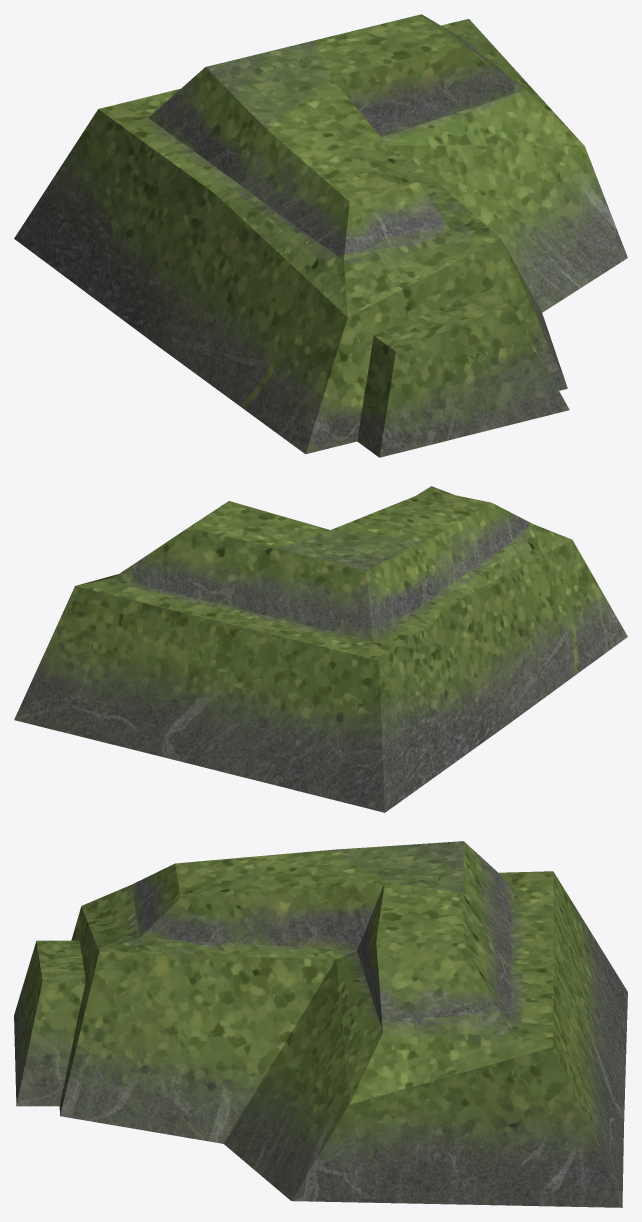
3 renders of one model, top to bottom at view 1: azimuth 30°, elevation 25°; view 2: azimuth 150°, elevation 25°; view 3: azimuth 270°, elevation 25°, orthographic. The views are drawn at different scales.
Parts seen in each view (by area): view 1: 3DObj_Land_2; view 2: 3DObj_Land_2; view 3: 3DObj_Land_2.
Boxes of the visible parts, x1,y1,x2,y2 form: 3DObj_Land_2: (14,14,627,457); 3DObj_Land_2: (14,486,627,812); 3DObj_Land_2: (14,841,627,1207).
Size of the model in its own units: 456 by 198 by 546.
1 material, 1 textured.
